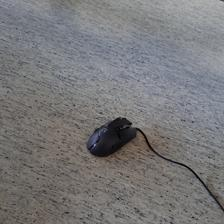mouse: (86, 116, 137, 157)
